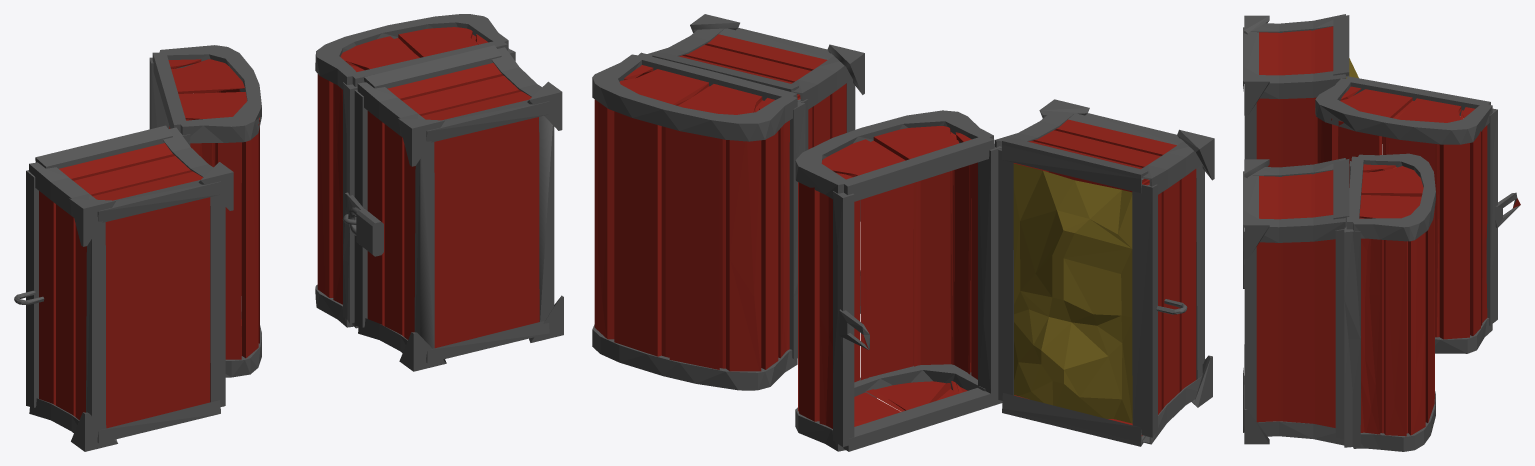
File: chest02.FBX
3 renders of one model, left to right at view 1: azimuth 30°, elevation 25°; view 2: azimuth 150°, elevation 25°; view 3: azimuth 270°, elevation 25°, orthographic. The views are drawn at different scales.
Parts seen in each view (by area): view 1: chest_two_open, chest_two_close; view 2: chest_two_open, chest_two_close; view 3: chest_two_close, chest_two_open.
Part boxes in pixels (x1,y1,x2,y2): chest_two_open: [14, 45, 261, 451]; chest_two_close: [315, 14, 563, 371]; chest_two_open: [795, 99, 1214, 451]; chest_two_close: [592, 14, 864, 390]; chest_two_close: [1243, 153, 1435, 451]; chest_two_open: [1243, 14, 1520, 353].
Size of the model in its own units: 114 by 54.29 by 59.61.
